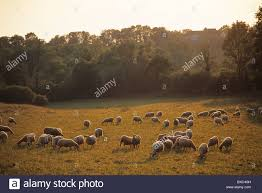sheep: (57, 138, 80, 153), (16, 133, 35, 149), (119, 133, 134, 150), (179, 136, 196, 151), (151, 139, 164, 158), (219, 137, 234, 152), (43, 127, 64, 137), (198, 142, 209, 159), (85, 133, 97, 147), (101, 116, 113, 127), (209, 135, 218, 149), (214, 116, 225, 127), (132, 115, 143, 125), (185, 119, 194, 130), (198, 110, 209, 118), (144, 112, 154, 120), (83, 119, 91, 129), (151, 116, 160, 124), (181, 111, 192, 117), (115, 116, 122, 125), (211, 111, 221, 117), (232, 111, 242, 117)
